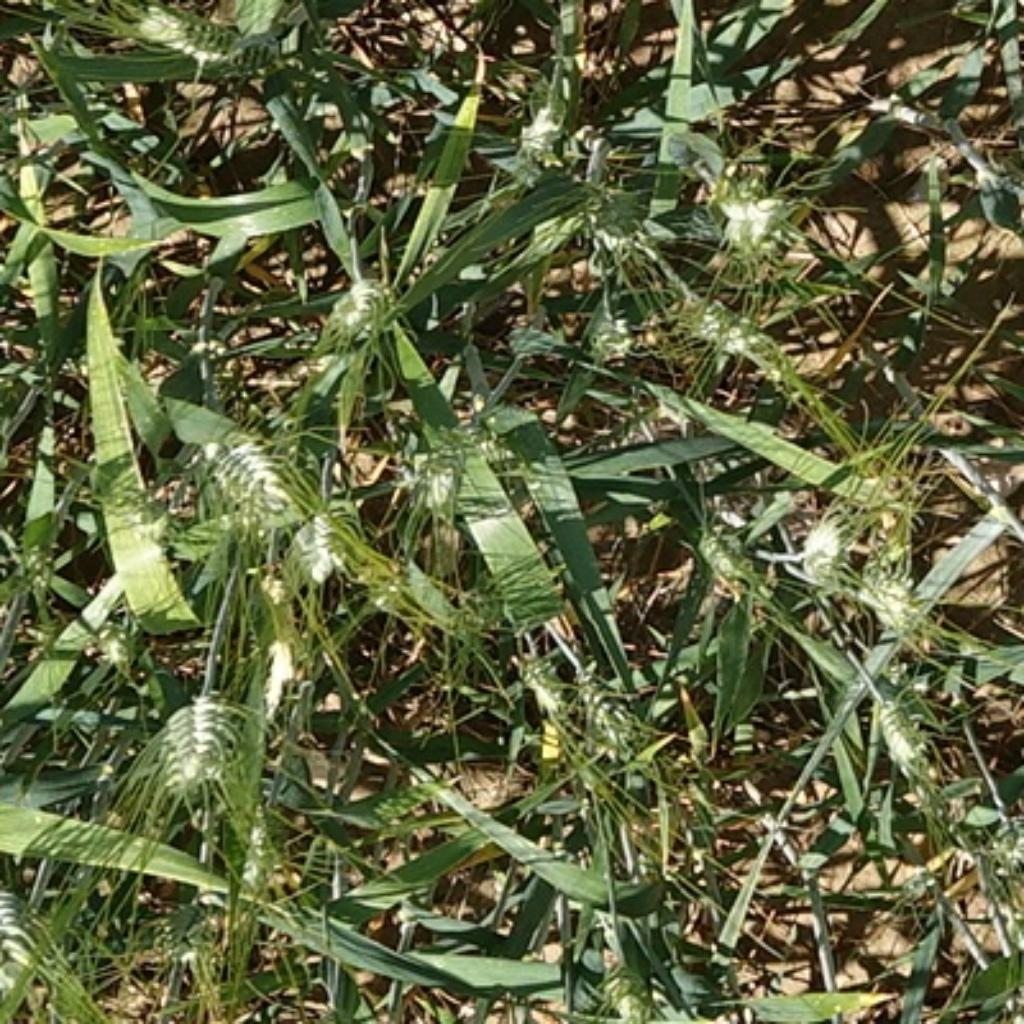0-0: (166, 414, 299, 547), (115, 0, 268, 71), (494, 88, 594, 193), (555, 161, 663, 258), (663, 279, 783, 366), (570, 660, 660, 775), (154, 687, 248, 793), (156, 890, 253, 990), (385, 431, 481, 532), (279, 491, 371, 596), (680, 491, 768, 599), (704, 175, 794, 270), (865, 673, 944, 780), (320, 257, 412, 342), (583, 947, 673, 1024), (854, 558, 933, 645), (0, 875, 56, 995), (791, 503, 866, 588), (975, 798, 1024, 890), (509, 640, 565, 711), (578, 291, 634, 358)
